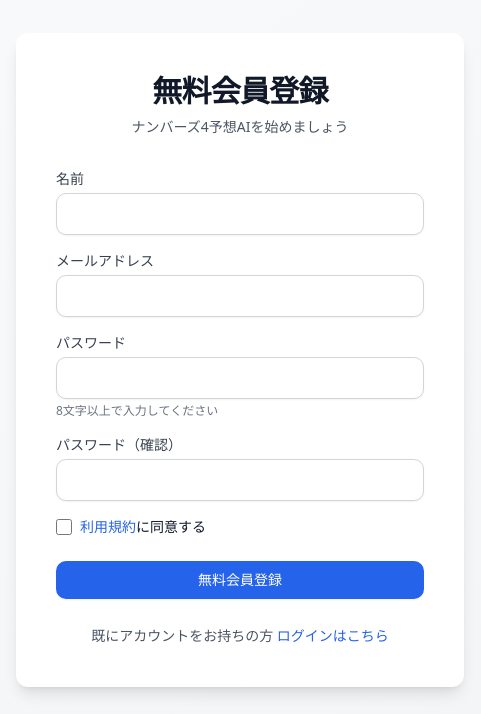
Test: RegisterPage › 空のフォームで送信するとエラーが表示される
Click the button "無料会員登録" at point(240, 580), box x1=56 y1=561 x2=424 y2=599
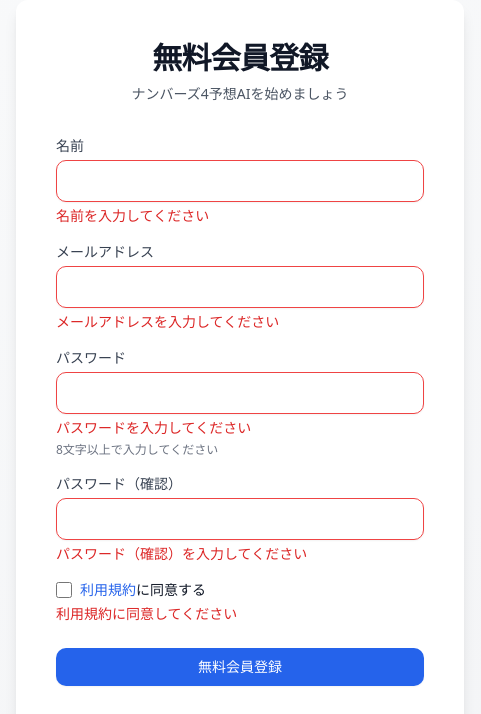
expect the text "メールアドレスを入力してください" is shown: met, box x1=56 y1=312 x2=279 y2=331
expect the text "パスワードを入力してください" is shown: met, box x1=56 y1=418 x2=251 y2=437
expect the text "パスワード（確認）を入力してください" is shown: met, box x1=56 y1=544 x2=307 y2=563
